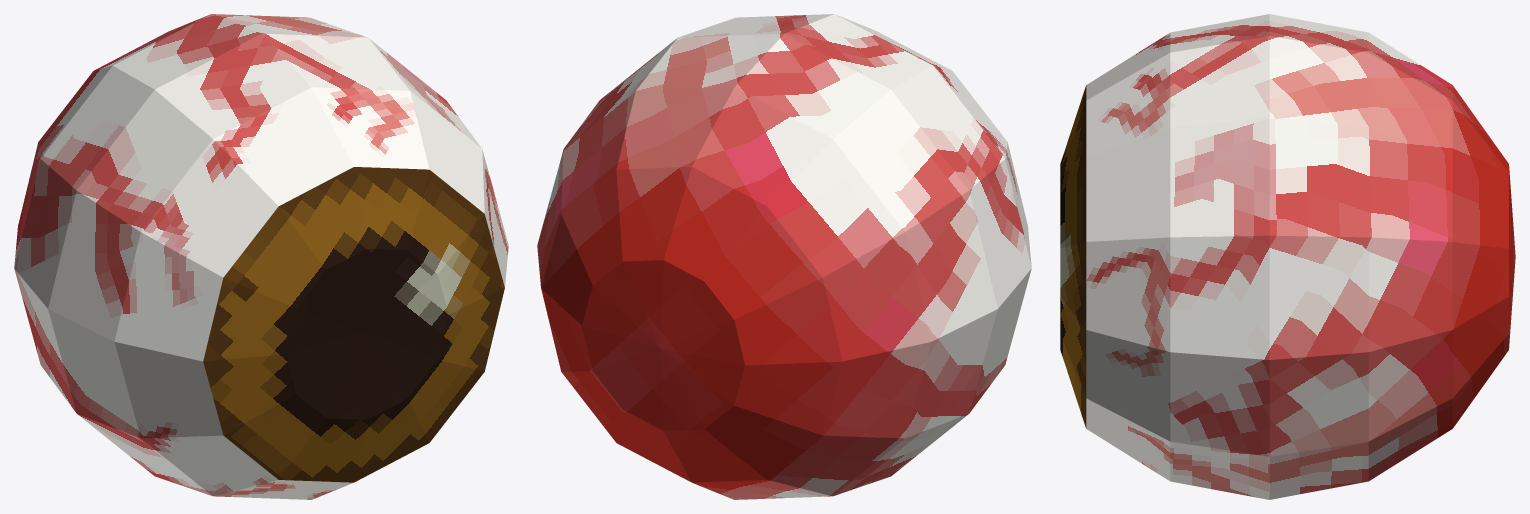
File: Eye.fbx
3 views of the same model, side by side, from view 1: azimuth 30°, elevation 25°; view 2: azimuth 150°, elevation 25°; view 3: azimuth 270°, elevation 25° (orthographic).
Visible parts, largest first — view 1: OlhoProjetil; view 2: OlhoProjetil; view 3: OlhoProjetil.
Boxes of the visible parts, left/top/right/bottom form: OlhoProjetil: left=14, top=14, right=508, bottom=499; OlhoProjetil: left=537, top=14, right=1031, bottom=499; OlhoProjetil: left=1060, top=14, right=1515, bottom=499.
Bounding box in the file's own units: 30 × 30 × 28.
